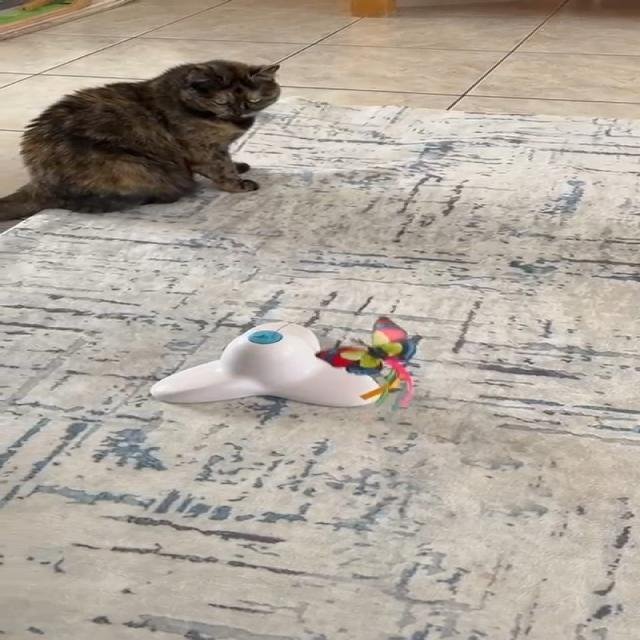authorized: (0, 58, 281, 221)
